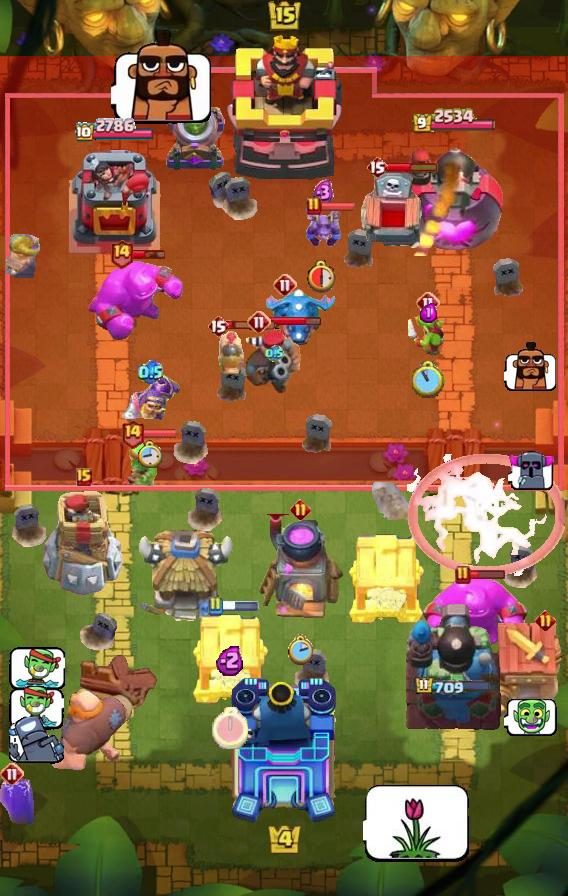balloon: (50, 688, 130, 776)
barbarian-evolution: (407, 454, 565, 576)
bomb: (346, 531, 426, 625), (190, 611, 270, 705)
clone: (86, 258, 188, 342), (420, 575, 530, 649)
electro-spirit: (216, 644, 245, 676), (138, 360, 163, 385), (314, 179, 335, 207), (419, 303, 437, 323), (264, 345, 283, 362)
elixir: (212, 707, 248, 749), (411, 361, 445, 399), (307, 259, 339, 294), (287, 634, 313, 665), (137, 440, 163, 468)
elixir-golem-mid: (358, 171, 428, 257)
emote: (385, 161, 438, 173), (270, 316, 323, 328), (226, 320, 278, 331), (469, 568, 507, 580), (131, 248, 167, 260), (142, 428, 178, 440), (320, 201, 356, 212), (221, 601, 259, 611)
executioner: (216, 330, 246, 376)
firecracker-evolution: (119, 374, 181, 421)
fisherman: (372, 482, 414, 528)
giant-snowball: (124, 439, 166, 489)
goblin-cage: (163, 103, 227, 173)
goblin-giant: (6, 232, 42, 279)
graveyard: (266, 286, 338, 348)
hunter: (255, 514, 345, 622)
king-tower: (226, 33, 342, 181), (228, 676, 340, 826)
phoenix-small: (243, 326, 305, 394)
prince: (134, 530, 236, 626)
queen-tower: (64, 146, 164, 256)
royal-delivery: (302, 206, 344, 250)
selected: (412, 109, 497, 136), (73, 118, 154, 144), (414, 675, 492, 697)
skeleton: (111, 26, 215, 125), (363, 782, 471, 864), (504, 340, 558, 392), (8, 717, 63, 765), (7, 647, 64, 693), (8, 686, 63, 730), (504, 697, 558, 738), (509, 449, 556, 491)
sparky: (482, 622, 568, 720)
spear-goblin: (0, 774, 40, 824)
text: (110, 238, 135, 269), (119, 419, 144, 449), (273, 273, 297, 297), (416, 291, 440, 315), (247, 310, 271, 334), (0, 762, 24, 786), (366, 155, 388, 179), (207, 314, 229, 338), (289, 499, 311, 520), (536, 609, 557, 630), (306, 196, 322, 216), (455, 565, 471, 585), (207, 596, 223, 616), (76, 468, 92, 486)
tower-bar: (403, 601, 503, 731), (404, 138, 505, 256)
zap: (406, 313, 450, 357)
zappy: (43, 491, 125, 597)
